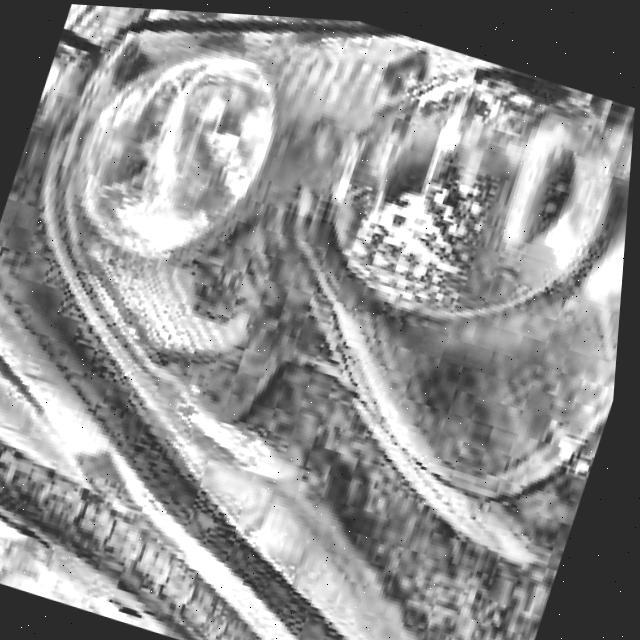tail_lamp: (73, 42, 323, 364)
